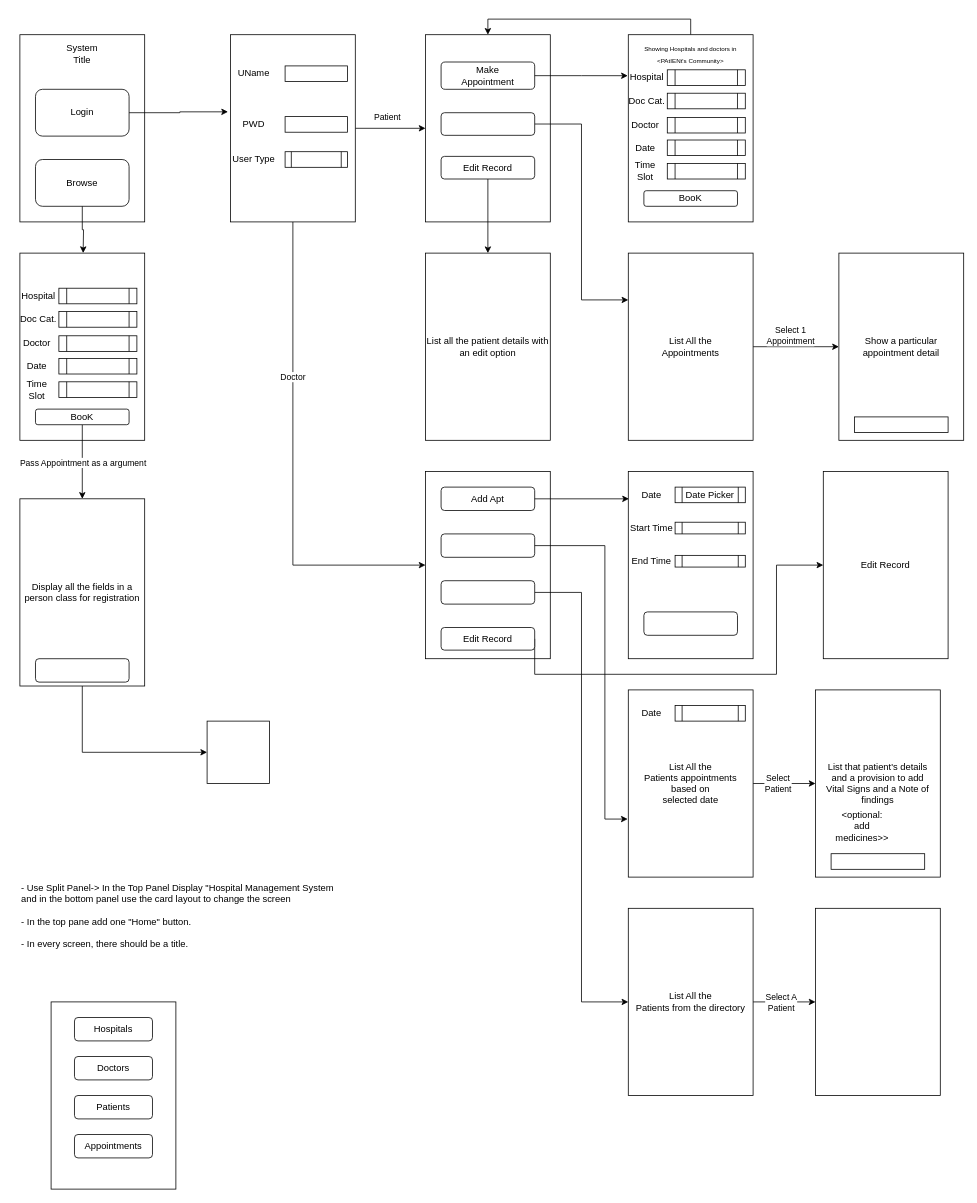
Image size: 977x1203. Some labels were removed from this diagram. Each missing label, with the centre of its shape:
"ADD" belongs at point 690,623.
"Browse Patient Dir" belongs at point 487,592.
"By Default Today's Date" belongs at point 709,713.
"Cancel Aptmt" belongs at point 901,424.
"Done" belongs at point 877,861.
"Examine Patients" belongs at point 487,545.
"List All the Patient's details" belongs at point 877,1002.
"Now, It will take to patient controller and patient's screens" belongs at point 237,752.
"Register & Book" belongs at point 82,670.
"View Appointments" belongs at point 487,123.
